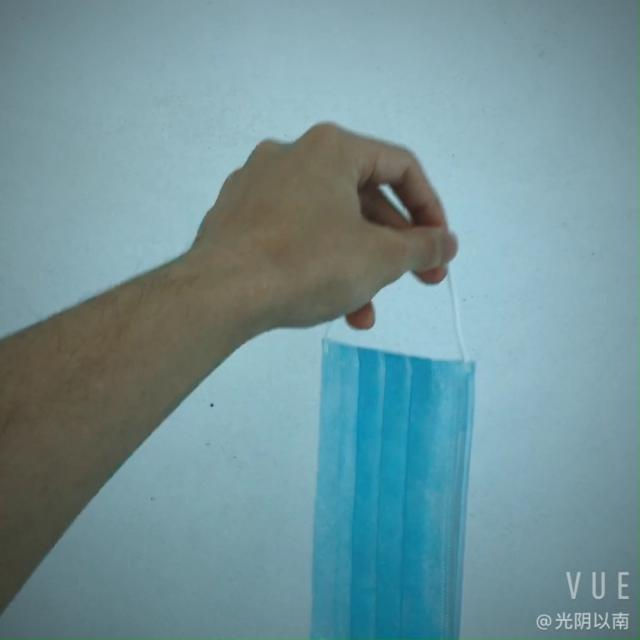face mask: (285, 332, 483, 640)
